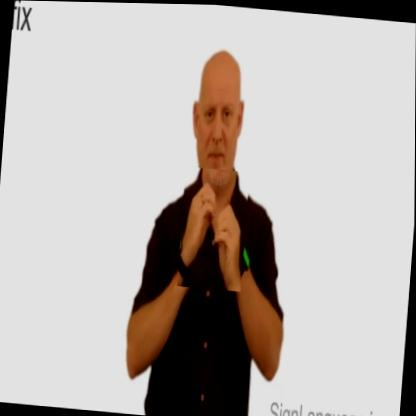Fix: (177, 165, 250, 291)
